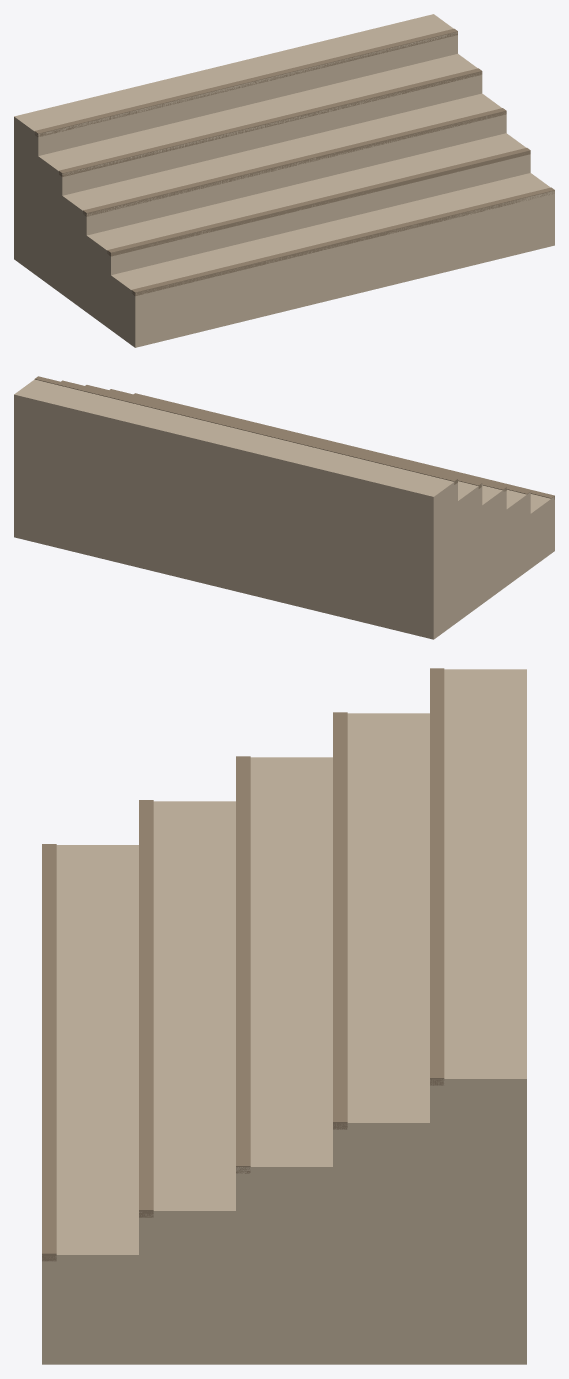
The model's file is city_plaza_steps_4.glb.
3 views of the same model, one above another, from view 1: azimuth 30°, elevation 25°; view 2: azimuth 150°, elevation 25°; view 3: azimuth 270°, elevation 25° (orthographic). The views are drawn at different scales.
Visible parts, largest first — view 1: CityPlazaSteps4_Steps, CityPlazaSteps4_Nosing1, CityPlazaSteps4_Nosing3, CityPlazaSteps4_Nosing2, CityPlazaSteps4_Nosing0, CityPlazaSteps4_Nosing4; view 2: CityPlazaSteps4_Steps, CityPlazaSteps4_Nosing4, CityPlazaSteps4_Nosing3, CityPlazaSteps4_Nosing2, CityPlazaSteps4_Nosing1, CityPlazaSteps4_Nosing0; view 3: CityPlazaSteps4_Steps, CityPlazaSteps4_Nosing0, CityPlazaSteps4_Nosing1, CityPlazaSteps4_Nosing3, CityPlazaSteps4_Nosing4, CityPlazaSteps4_Nosing2.
Part boxes in pixels (box(x1,y1,x2,y2)): CityPlazaSteps4_Steps: box(14, 14, 554, 347); CityPlazaSteps4_Nosing1: box(107, 148, 530, 256); CityPlazaSteps4_Nosing3: box(59, 68, 482, 176); CityPlazaSteps4_Nosing2: box(83, 108, 506, 216); CityPlazaSteps4_Nosing0: box(131, 187, 554, 296); CityPlazaSteps4_Nosing4: box(34, 28, 457, 136); CityPlazaSteps4_Steps: box(14, 379, 554, 639); CityPlazaSteps4_Nosing4: box(34, 376, 457, 484); CityPlazaSteps4_Nosing3: box(61, 380, 482, 488); CityPlazaSteps4_Nosing2: box(85, 385, 506, 491); CityPlazaSteps4_Nosing1: box(109, 389, 530, 494); CityPlazaSteps4_Nosing0: box(133, 393, 554, 499); CityPlazaSteps4_Steps: box(42, 669, 526, 1364); CityPlazaSteps4_Nosing0: box(42, 844, 56, 1261); CityPlazaSteps4_Nosing1: box(139, 800, 153, 1217); CityPlazaSteps4_Nosing3: box(333, 712, 347, 1129); CityPlazaSteps4_Nosing4: box(430, 668, 444, 1085); CityPlazaSteps4_Nosing2: box(236, 756, 250, 1173).
Size of the model in its own units: 4 by 1.31 by 2.
